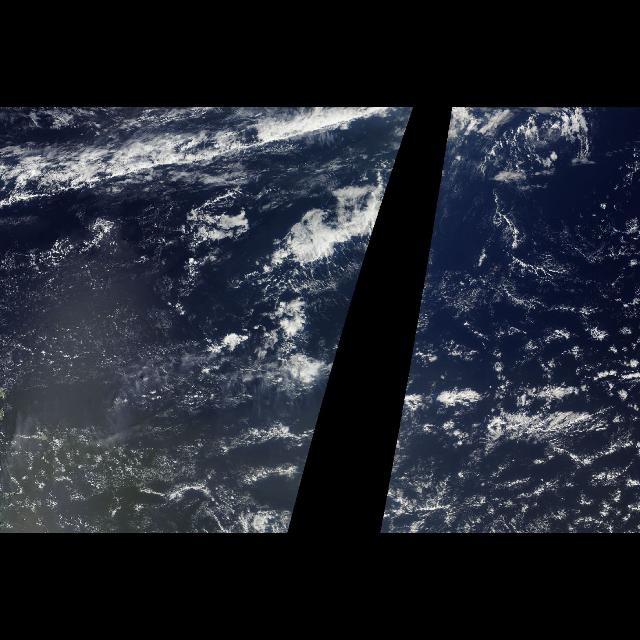Gravel: (409, 237, 636, 489)
Sugar: (3, 234, 280, 486)
